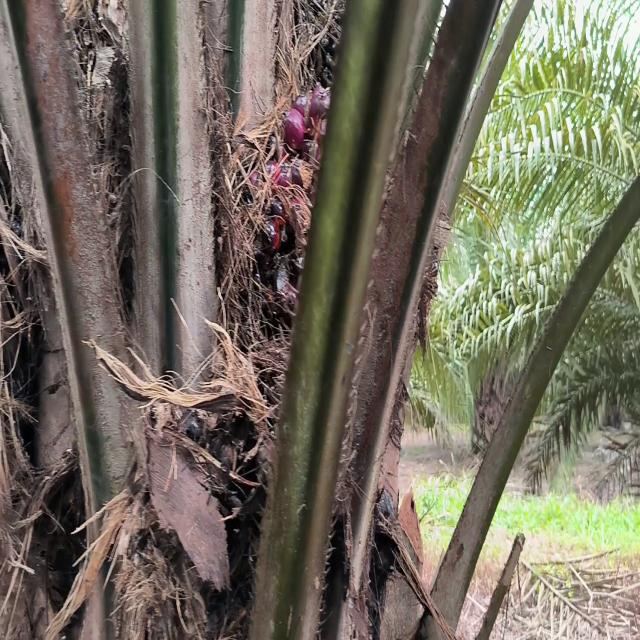palm-oil: (212, 69, 391, 526)
